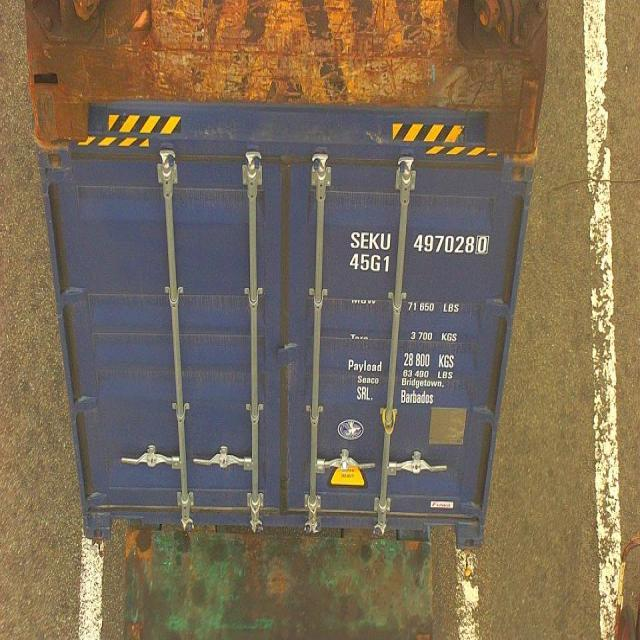ISO: (348, 252, 392, 275)
container_number: (352, 234, 490, 256)
